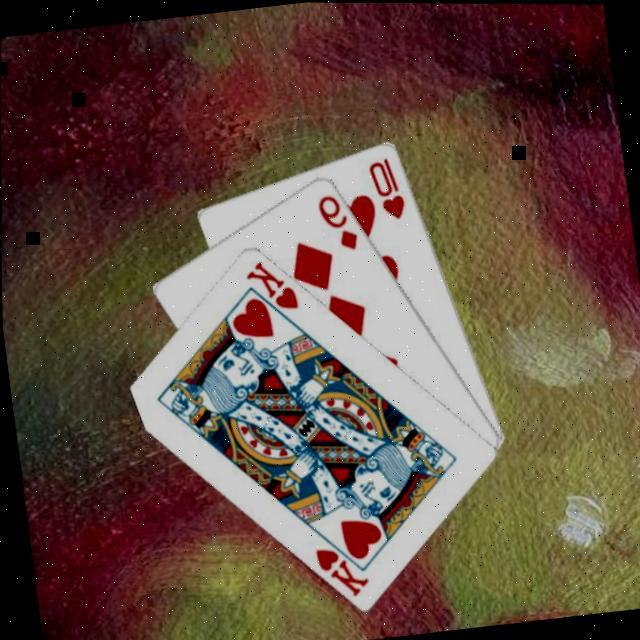10H: (364, 153, 410, 224)
9D: (314, 189, 362, 256)
KH: (310, 540, 374, 604), (241, 254, 303, 318)
